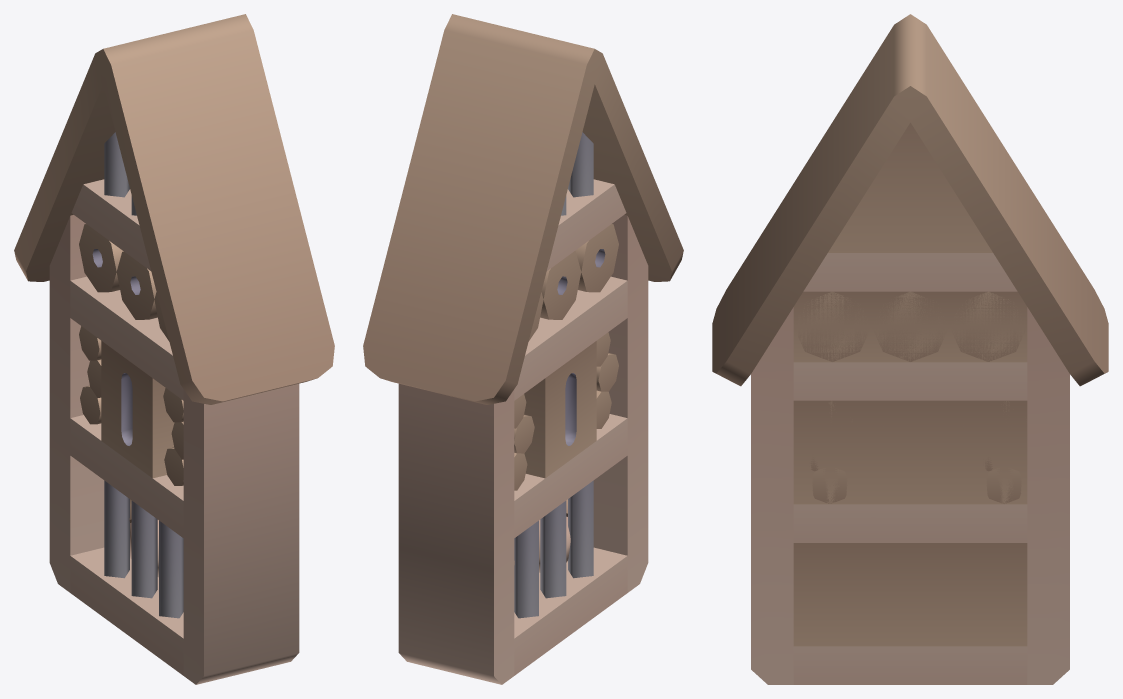
The model's file is insect-hotel (%wall).glb.
3 views of the same model, side by side, from view 1: azimuth 30°, elevation 25°; view 2: azimuth 150°, elevation 25°; view 3: azimuth 270°, elevation 25° (orthographic). The views are drawn at different scales.
Visible parts, largest first — view 1: insect-hotel (%wall); view 2: insect-hotel (%wall); view 3: insect-hotel (%wall).
Part boxes in pixels (x1,y1,x2,y2): insect-hotel (%wall): [14, 14, 334, 684]; insect-hotel (%wall): [363, 14, 683, 684]; insect-hotel (%wall): [712, 14, 1108, 684].
Bounding box in the file's own units: 0.3 × 1.19 × 0.699.
